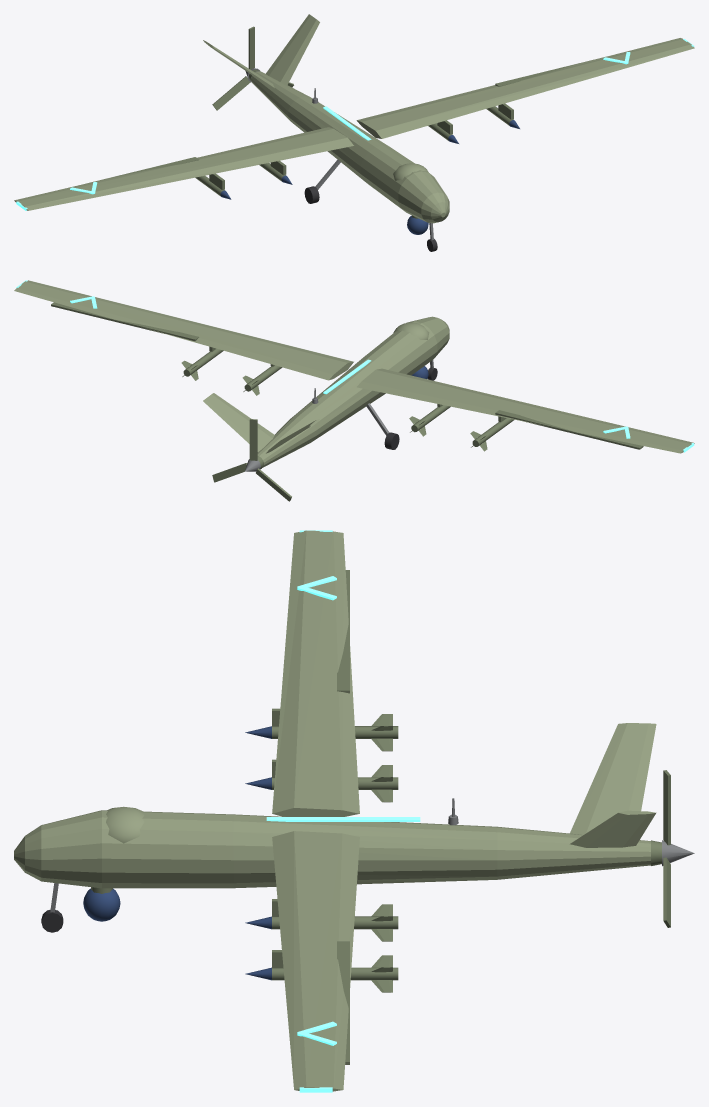
Rendered from uav_blue.glb.
3 views of the same model, one above another, from view 1: azimuth 30°, elevation 25°; view 2: azimuth 150°, elevation 25°; view 3: azimuth 270°, elevation 25° (orthographic). The views are drawn at different scales.
Parts seen in each view (by area): view 1: body, prop; view 2: body, prop; view 3: body, prop.
Boxes of the visible parts, <box> form: body: <box>14,14,694,251</box>; prop: <box>212,26,293,110</box>; body: <box>14,280,694,469</box>; prop: <box>212,419,291,501</box>; body: <box>14,530,661,1092</box>; prop: <box>662,770,694,927</box>.
Size of the model in its own units: 12.03 by 1.66 by 6.2.
